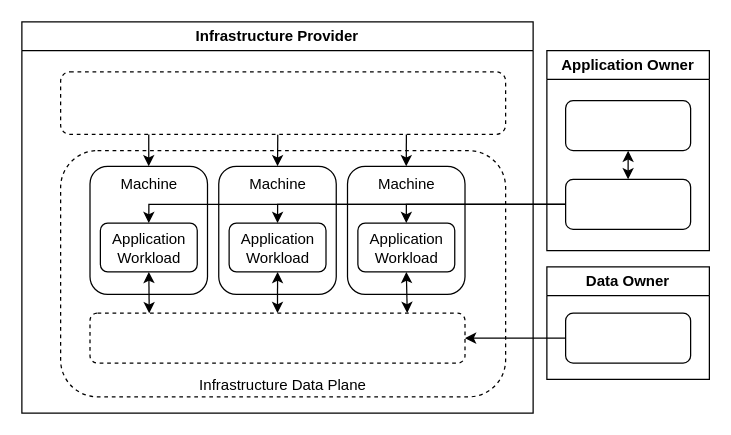
The diagram is 731 pixels wide and 435 high, and some of its shapes have lost their labels. The shapes that lost their labels are listed below. From the top down, each one's centre as x and y in pixels, then its label:
At (282,102): "Infrastructure Control Plane".
At (627,125): "Repository".
At (627,203): "Orchestration and Deployment".
At (277,337): "Storage".
At (627,337): "Data".
